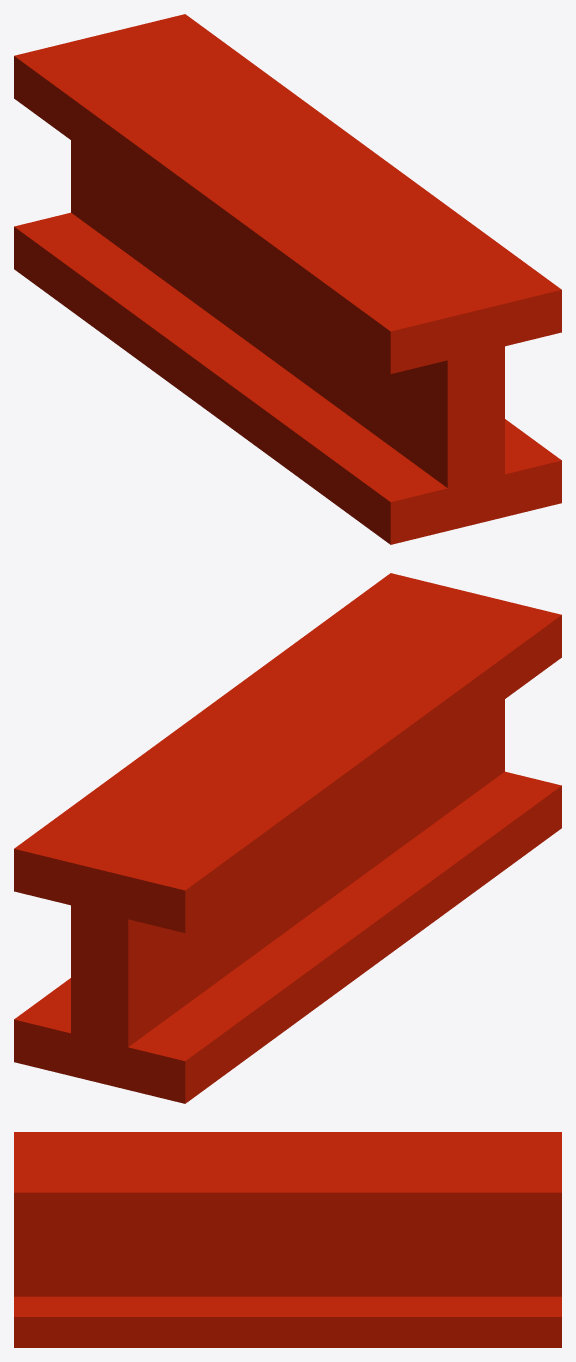
The model's file is Beam2.fbx.
3 views of the same model, one above another, from view 1: azimuth 30°, elevation 25°; view 2: azimuth 150°, elevation 25°; view 3: azimuth 270°, elevation 25° (orthographic). The views are drawn at different scales.
Parts seen in each view (by area): view 1: Beam; view 2: Beam; view 3: Beam.
Part boxes in pixels (x1,y1,x2,y2): Beam: (14, 14, 561, 544); Beam: (14, 573, 561, 1103); Beam: (14, 1132, 561, 1347).
Size of what is drawn, in the model's own units: 210 by 250 by 800.
